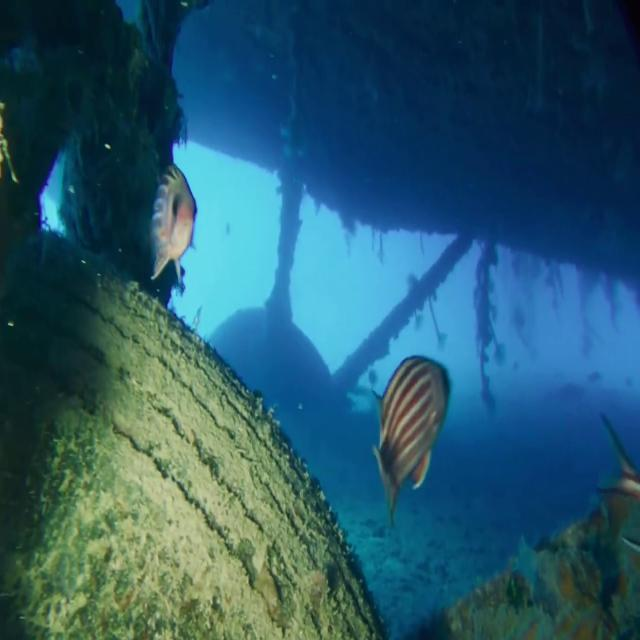Asker Baligi: (369, 352, 451, 528), (148, 160, 198, 287)
